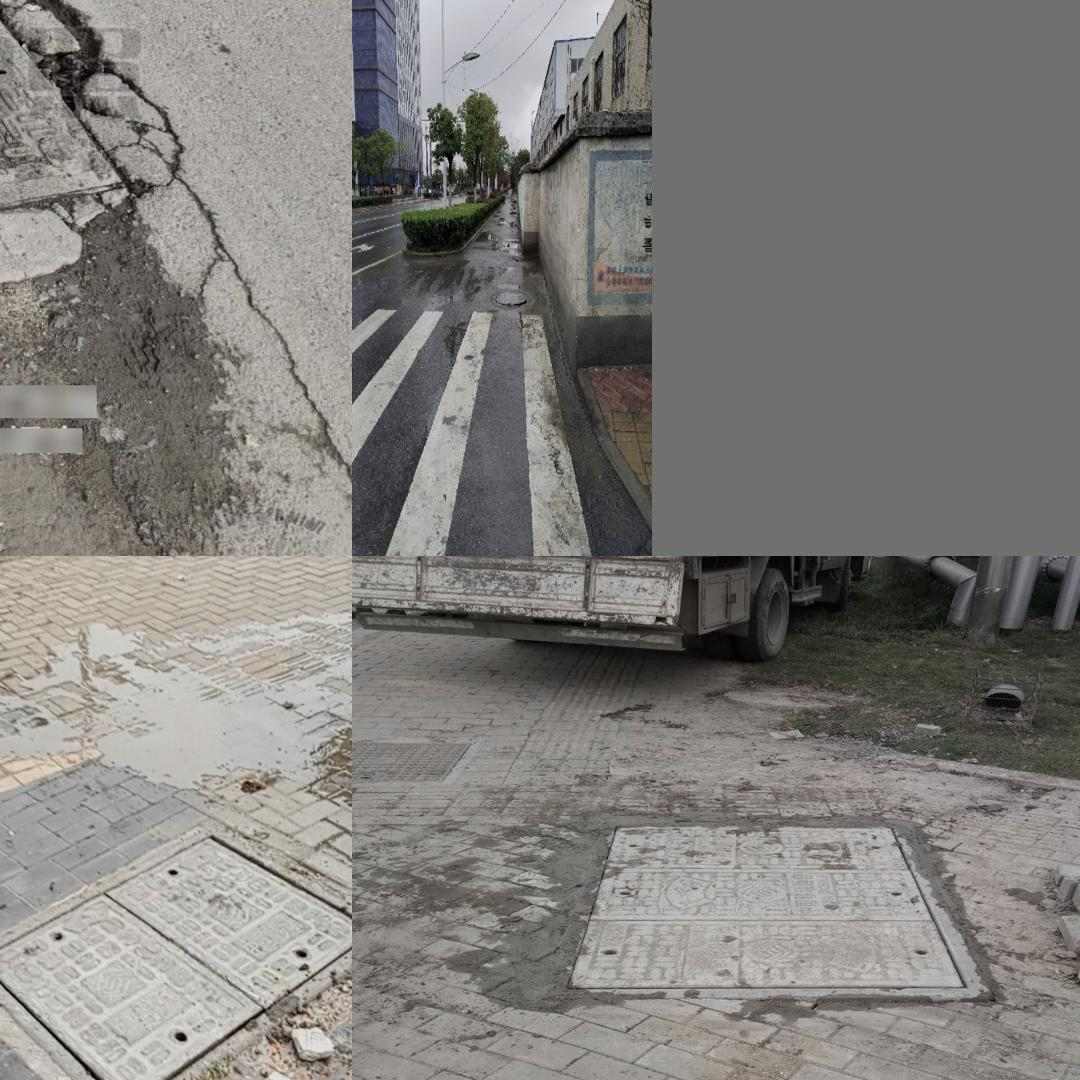good: (0, 816, 352, 1080), (560, 819, 986, 998), (0, 0, 99, 229), (475, 260, 541, 334)
